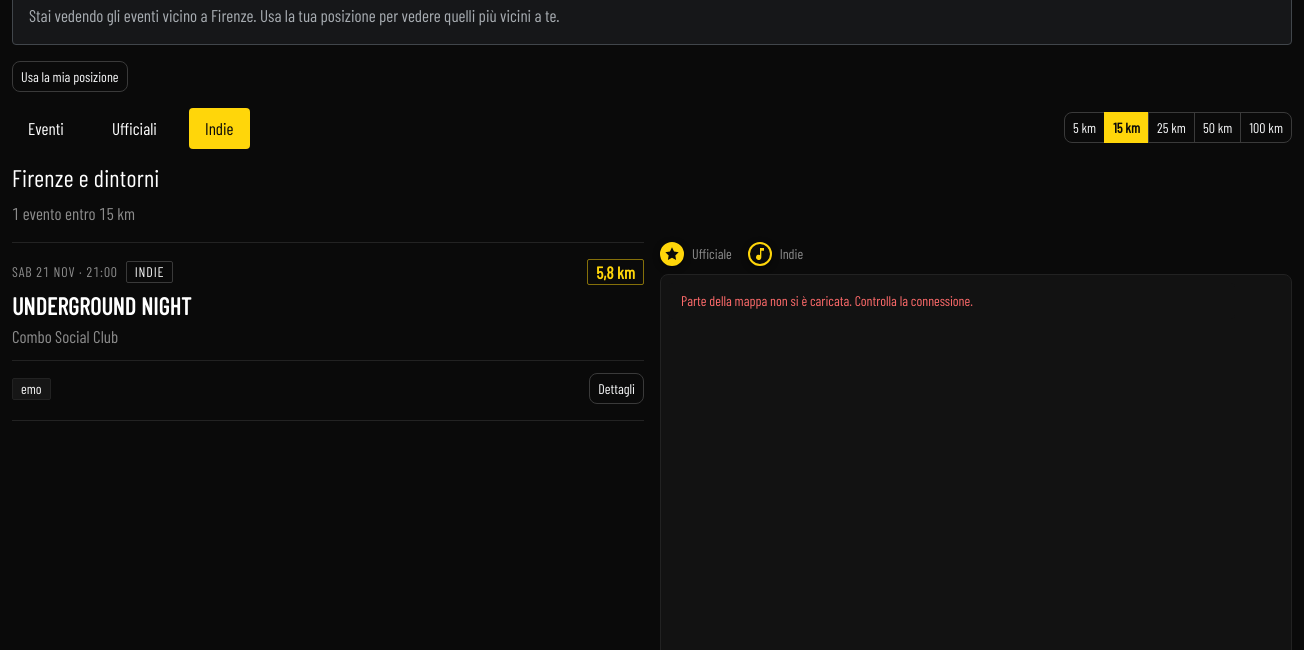
Scenario: NearbyEventsPage · ricerca › cambiando raggio cerca di nuovo con il nuovo raggio, tiene la scheda e lo scrive nell'indirizzo
Expected: the heading "Underground night" is shown, [12,291,192,320]
Click the button "25 km" at x=1171, y=128, box [1148,112,1195,144]
(page scrolled)
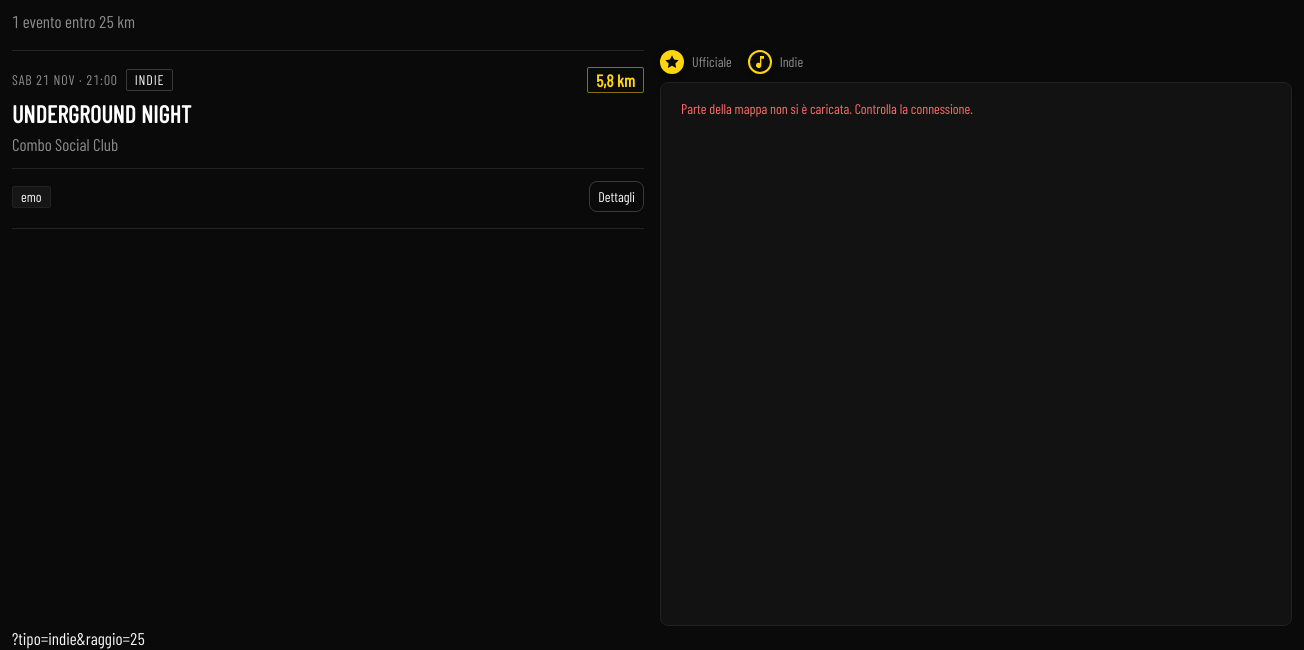
Expected: the text with test id "search" shows "tipo=indie", [12,628,145,648]
Expected: the text with test id "search" shows "raggio=25", [12,628,145,648]
